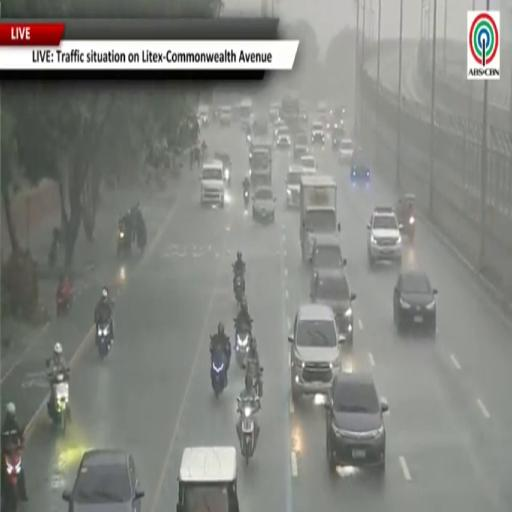car: (325, 373, 389, 474), (288, 304, 344, 401), (62, 450, 144, 511), (176, 446, 239, 511), (310, 268, 356, 345), (394, 270, 437, 337), (367, 207, 402, 266), (312, 234, 346, 273), (200, 160, 225, 207), (286, 165, 314, 206), (252, 186, 276, 221), (285, 164, 303, 207), (351, 150, 370, 183), (215, 152, 232, 185), (339, 138, 354, 164), (331, 122, 344, 150), (317, 102, 330, 129), (276, 125, 291, 148), (311, 121, 325, 145), (300, 154, 317, 171), (293, 144, 308, 163), (330, 106, 345, 123), (219, 106, 232, 125), (294, 131, 309, 147), (198, 105, 209, 126), (274, 119, 286, 138), (270, 103, 280, 123), (300, 102, 308, 121)
motorcycle: (237, 397, 259, 465), (2, 445, 21, 511), (49, 372, 69, 434), (211, 350, 227, 397), (96, 320, 113, 359), (235, 326, 250, 367), (56, 283, 74, 316), (48, 228, 62, 268), (117, 221, 131, 258), (248, 367, 263, 397), (403, 214, 416, 241), (137, 216, 146, 252), (234, 275, 244, 302), (244, 189, 250, 207)
truck: (300, 175, 340, 260), (250, 146, 272, 187), (281, 93, 300, 130)
